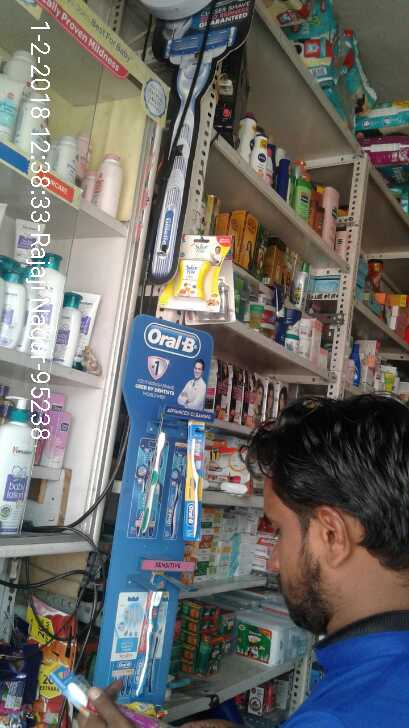oralb: (131, 589, 172, 700), (143, 429, 169, 536), (182, 427, 202, 544)
